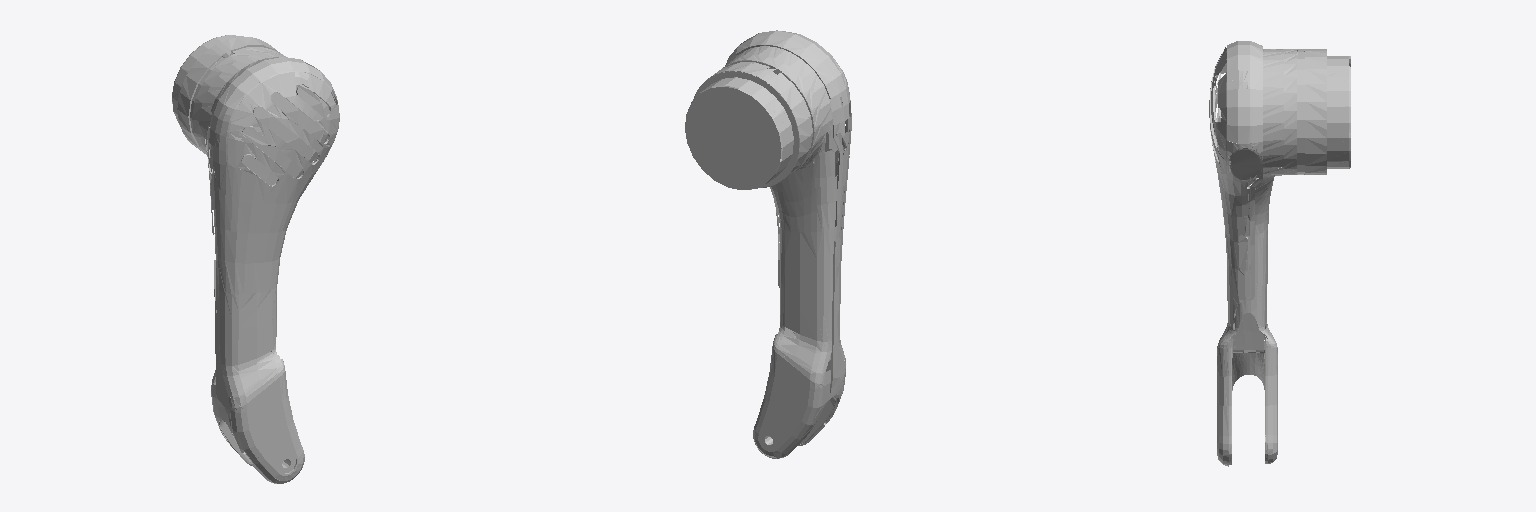
File: RR_thigh.obj
3 views of the same model, side by side, from view 1: azimuth 30°, elevation 25°; view 2: azimuth 150°, elevation 25°; view 3: azimuth 270°, elevation 25° (orthographic).
Visible parts, largest first — view 1: object23_050-mesh; view 2: object23_050-mesh; view 3: object23_050-mesh.
Boxes of the visible parts, <box> form: object23_050-mesh: <box>172,35,339,483</box>; object23_050-mesh: <box>685,30,851,458</box>; object23_050-mesh: <box>1209,41,1350,466</box>.
Bounding box in the file's own units: 0.1385 × 0.4434 × 0.1364.